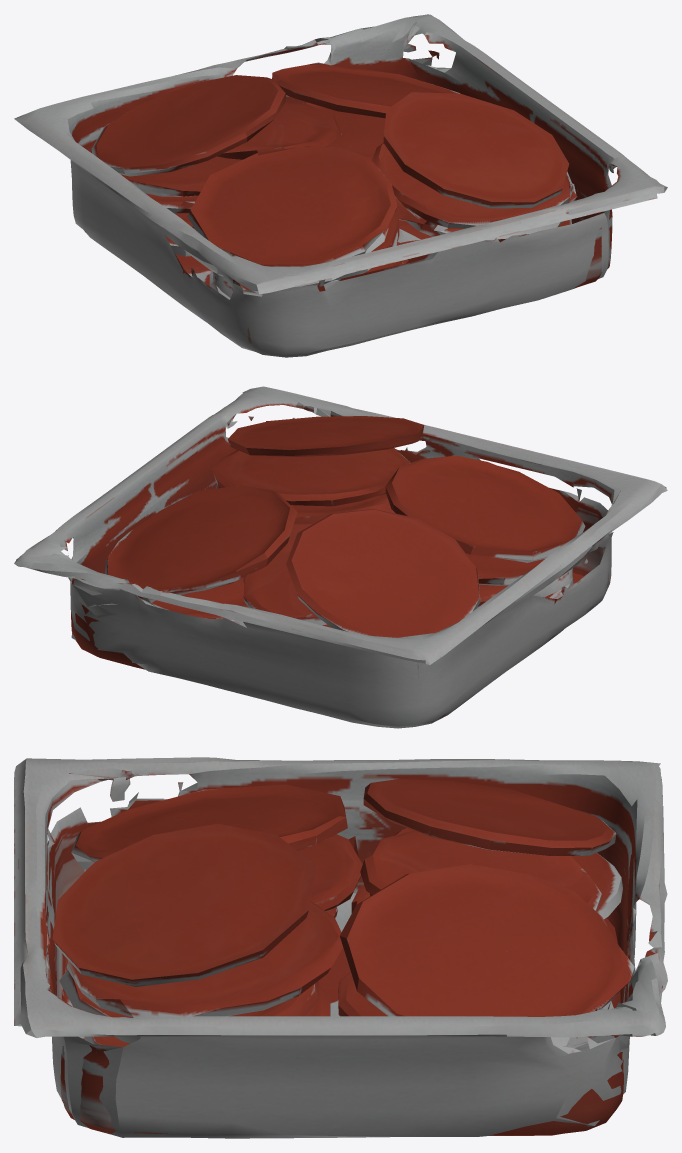
File: Meshy_AI_Pepperoni_Pan_0831075200_texture.fbx
3 views of the same model, one above another, from view 1: azimuth 30°, elevation 25°; view 2: azimuth 150°, elevation 25°; view 3: azimuth 270°, elevation 25° (orthographic). The views are drawn at different scales.
Parts seen in each view (by area): view 1: Mesh0; view 2: Mesh0; view 3: Mesh0.
Part boxes in pixels (box(x1,y1,x2,y2)): Mesh0: box(14, 14, 667, 357); Mesh0: box(14, 386, 667, 728); Mesh0: box(14, 757, 667, 1138).
Bounding box in the file's own units: 189 × 64.77 × 190.
Materials: 1 (1 with a texture image).
